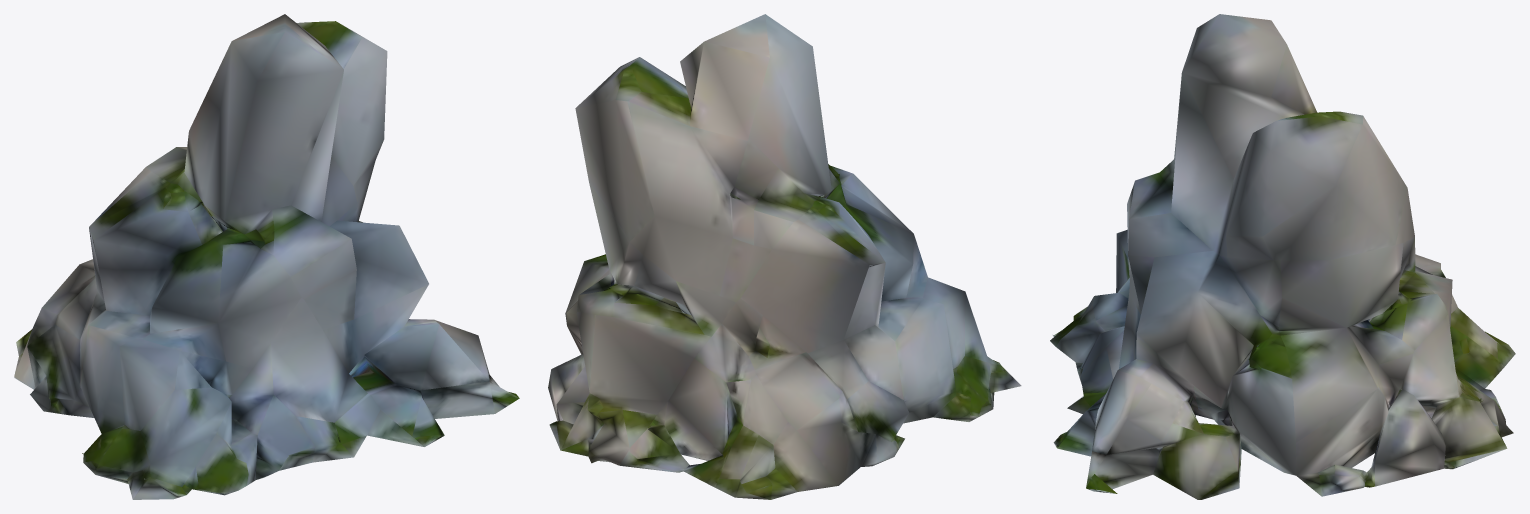
The model's file is andes-rock.glb.
3 views of the same model, side by side, from view 1: azimuth 30°, elevation 25°; view 2: azimuth 150°, elevation 25°; view 3: azimuth 270°, elevation 25° (orthographic). The views are drawn at different scales.
Parts seen in each view (by area): view 1: tripo_node_d74a5e26-16d7-4962-9d7b-802fd4e3daff; view 2: tripo_node_d74a5e26-16d7-4962-9d7b-802fd4e3daff; view 3: tripo_node_d74a5e26-16d7-4962-9d7b-802fd4e3daff.
Part boxes in pixels (bbox=[...]): tripo_node_d74a5e26-16d7-4962-9d7b-802fd4e3daff: bbox=[14, 14, 519, 499]; tripo_node_d74a5e26-16d7-4962-9d7b-802fd4e3daff: bbox=[548, 14, 1021, 499]; tripo_node_d74a5e26-16d7-4962-9d7b-802fd4e3daff: bbox=[1050, 14, 1515, 499].
Size of the model in its own units: 0.9664 by 0.8978 by 0.9488.
1 material, 1 textured.
